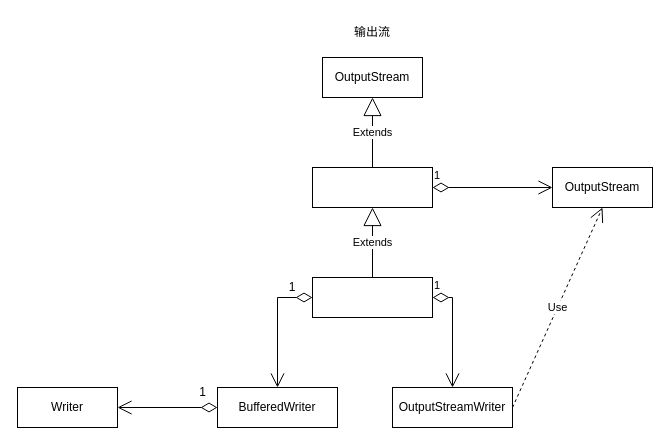
The diagram is 670 pixels wide and 445 high, and some of its shapes have lost their labels. The centre of each missing label's shape, as x and y in pixels:
"FilterOutputStream" goes at [372,187].
"PrintStream" goes at [372,297].
